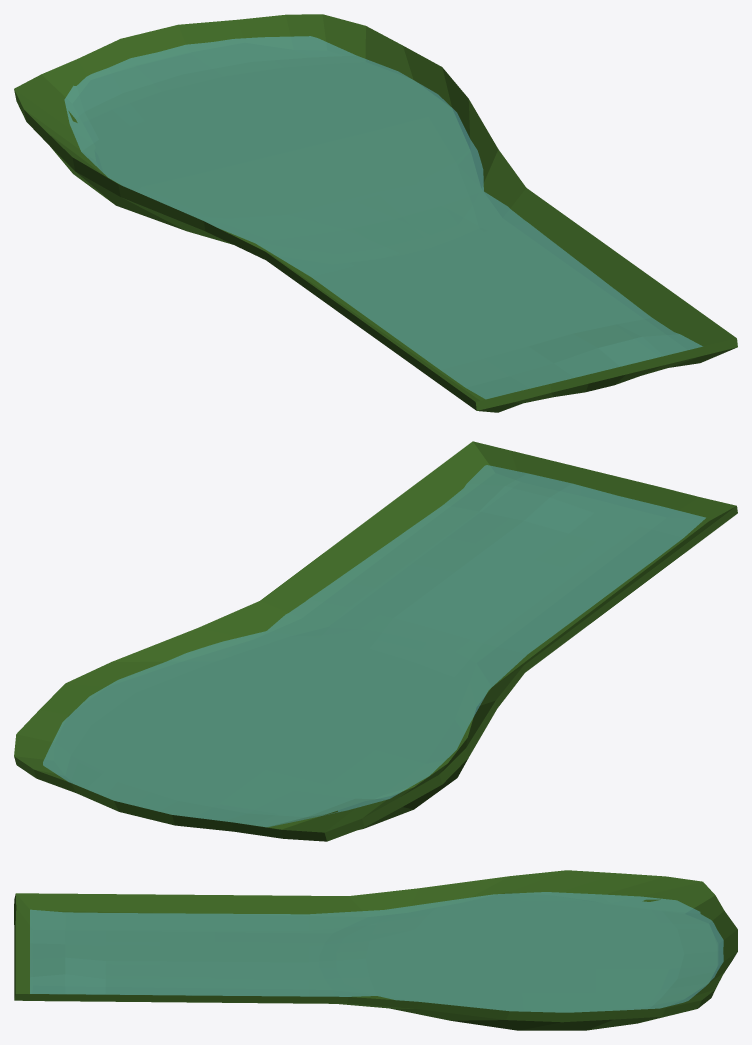
Rendered from AntonioCenarioFase1.fbx.
The picture shows the model from 3 angles, top to bottom: view 1: azimuth 30°, elevation 25°; view 2: azimuth 150°, elevation 25°; view 3: azimuth 270°, elevation 25°; orthographic projection. The views are drawn at different scales.
Parts seen in each view (by area): view 1: Fonte; view 2: Fonte; view 3: Fonte.
Boxes of the visible parts, left/top/right/bottom form: Fonte: left=14, top=14, right=737, bottom=412; Fonte: left=14, top=441, right=737, bottom=841; Fonte: left=14, top=870, right=737, bottom=1030.
Bounding box in the file's own units: 1744 × 148 × 3735.
